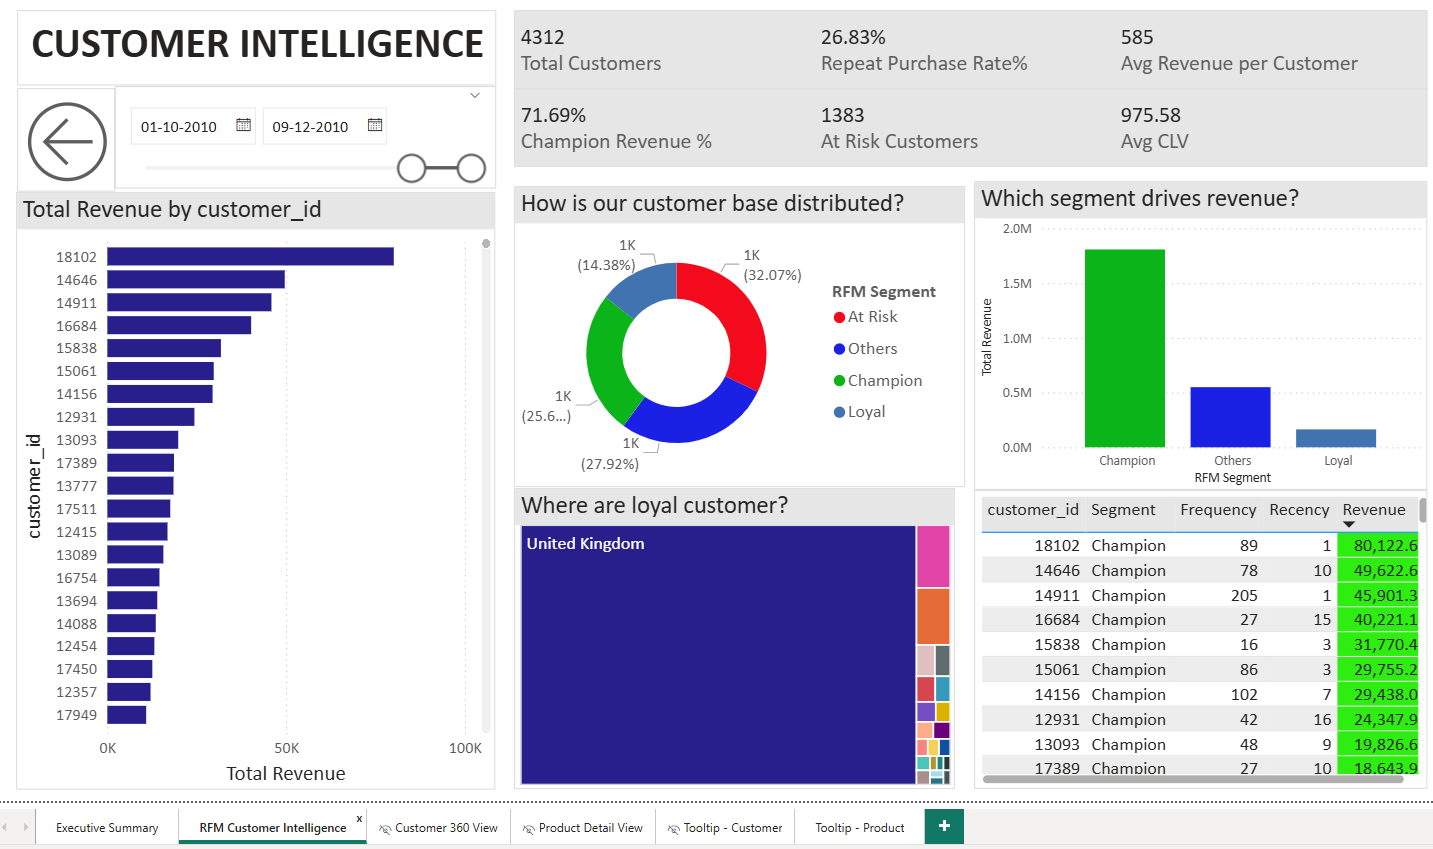

The page's visual inventory and layout, read from the dashboard file:
{"tool":"powerbi","page":{"name":"RFM Customer Intelligence","canvas":[1280,720],"ordinal":1},"visuals":[{"type":"textbox","box":[23.5,18.5,425,67.2],"z":0},{"type":"multiRowCard","fields":{"Values":["dim_customer.Total Customers","fact_sales.Repeat Purchase Rate%","fact_sales.Avg Revenue per Customer"]},"box":[465,18.3,810,70],"z":1000},{"type":"multiRowCard","fields":{"Values":["customer_rfm.Champion Revenue %","fact_sales.At Risk Customers","fact_sales.Avg CLV"]},"box":[465,88,810,70],"z":2000},{"type":"donutChart","title":"How is our customer base distributed?","fields":{"Y":["customer_rfm.Customer by segment"],"Category":["customer_rfm.rfm_segment"]},"box":[465,175,400,267],"z":3000},{"type":"clusteredColumnChart","title":"Which segment drives revenue?","fields":{"Category":["customer_rfm.rfm_segment"],"Y":["fact_sales.Total Revenue"]},"box":[872.5,170.4,402,274.2],"z":4000},{"type":"treemap","title":"Where are loyal customer? ","fields":{"Group":["fact_sales.country"],"Values":["fact_sales.Repeat Customers"]},"box":[464.9,442.7,390.9,267],"z":5000},{"type":"tableEx","title":"High Value Customers","fields":{"Values":["customer_rfm.customer_id","customer_rfm.rfm_segment","customer_rfm.frequency","customer_rfm.recency","fact_sales.Total Revenue"]},"box":[872.5,444.6,402,264.9],"z":6000},{"type":"clusteredBarChart","fields":{"Y":["fact_sales.Total Revenue"],"Category":["customer_rfm.customer_id"]},"box":[23.3,180,425,530],"z":7000},{"type":"slicer","fields":{"Values":["date_dim.date"]},"box":[110.9,85.7,337.6,90.7],"z":8000},{"type":"actionButton","box":[23.5,87.3,87.3,92.4],"z":9000}]}

Visuals, with their boxes on the page's 1280x720 design canvas (x1, y1, x2, y2). These are canvas units, not pixel positions in the 1433x849 screenshot, which may show the page scaled, cropped or inside an application window:
textbox: <region>24, 18, 448, 86</region>
multiRowCard - dim_customer.Total Customers x fact_sales.Repeat Purchase Rate%: <region>465, 18, 1275, 88</region>
multiRowCard - customer_rfm.Champion Revenue % x fact_sales.At Risk Customers: <region>465, 88, 1275, 158</region>
"How is our customer base distributed?" donutChart: <region>465, 175, 865, 442</region>
"Which segment drives revenue?" clusteredColumnChart: <region>872, 170, 1274, 445</region>
"Where are loyal customer? " treemap: <region>465, 443, 856, 710</region>
"High Value Customers" tableEx: <region>872, 445, 1274, 710</region>
clusteredBarChart - fact_sales.Total Revenue x customer_rfm.customer_id: <region>23, 180, 448, 710</region>
slicer - date_dim.date: <region>111, 86, 448, 176</region>
actionButton: <region>24, 87, 111, 180</region>
